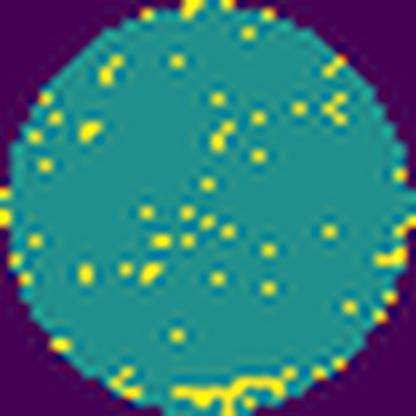Scratch: (171, 364, 300, 416)
